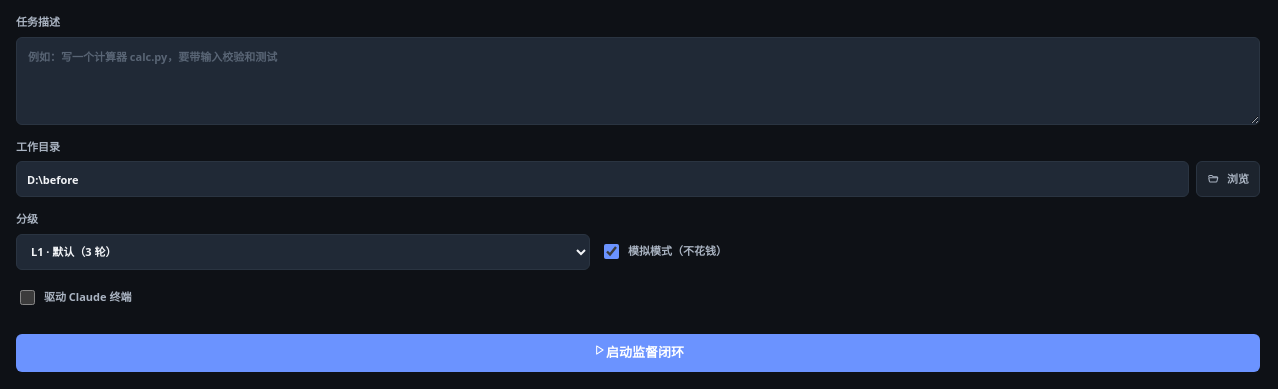
Test: SupervisePanel › 点📁浏览 → 打开目录选择器并填入选中的目录
Click the button "浏览" at (1228, 179), box [1196, 161, 1260, 197]
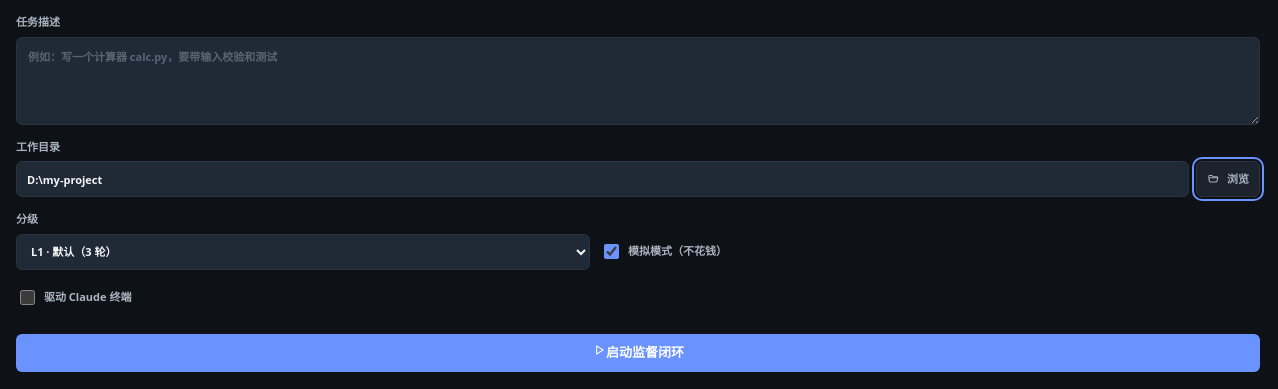
Now the field with placeholder "Claude 干活的项目目录（可点击浏览选择）" holds "D:\\my-project", box [16, 161, 1189, 197]
